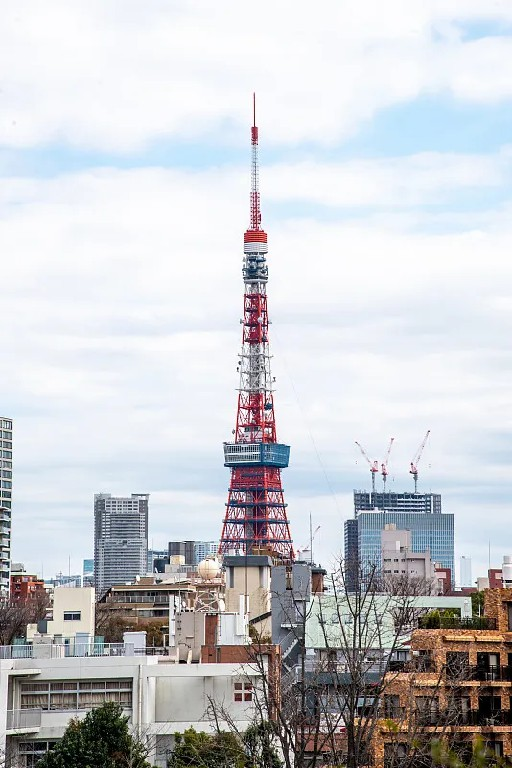Tokyo: (218, 88, 300, 563)
